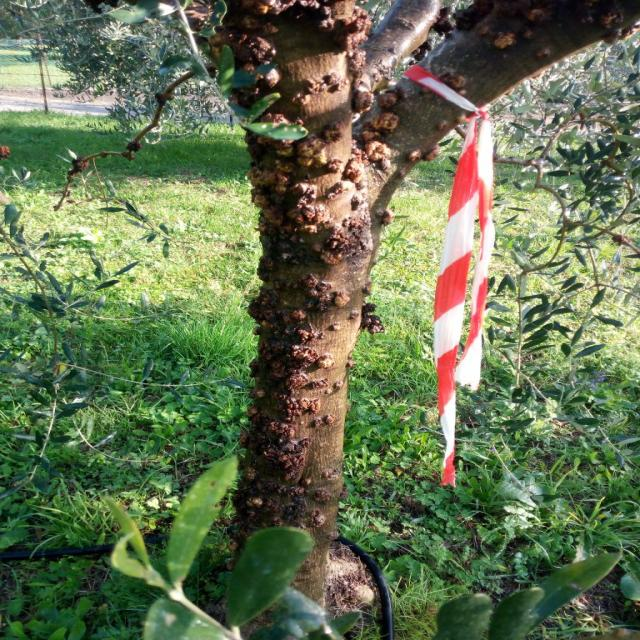Tuberculosis: (230, 288, 342, 537), (248, 142, 344, 266), (226, 0, 372, 71), (322, 208, 371, 263), (289, 274, 351, 313), (291, 72, 348, 108), (297, 138, 346, 178), (232, 36, 275, 72), (342, 144, 368, 189), (363, 139, 393, 171), (368, 112, 400, 137), (361, 302, 384, 334), (378, 84, 404, 111), (352, 88, 374, 114), (321, 122, 343, 143), (378, 208, 395, 231), (310, 509, 327, 529), (422, 144, 439, 161), (315, 488, 332, 504), (322, 468, 340, 482)
